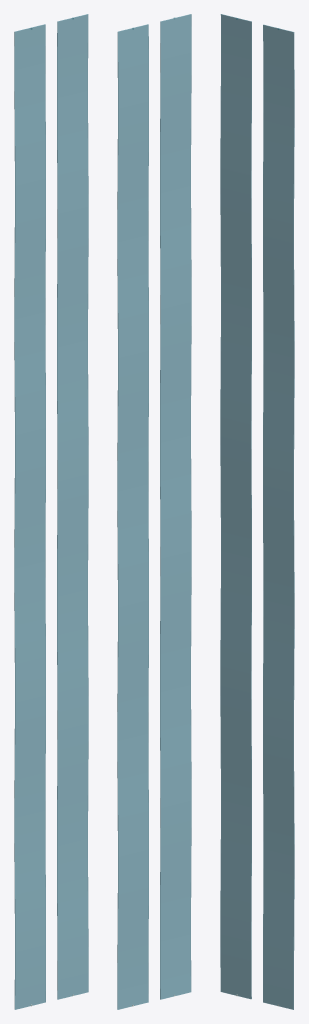
The picture shows the model from 3 angles, left to right: view 1: azimuth 30°, elevation 25°; view 2: azimuth 210°, elevation 25°; view 3: azimuth 330°, elevation 25°; orthographic projection.
Visible parts, largest first — view 1: 瀑宽流量与分帘形态族; view 2: 瀑宽流量与分帘形态族; view 3: 瀑宽流量与分帘形态族.
Boxes of the visible parts, left/top/right/bottom form: 瀑宽流量与分帘形态族: left=14, top=14, right=88, bottom=1009; 瀑宽流量与分帘形态族: left=117, top=14, right=191, bottom=1009; 瀑宽流量与分帘形态族: left=220, top=14, right=294, bottom=1009.
Size of the model in its own units: 12 by 153 by 0.28.
